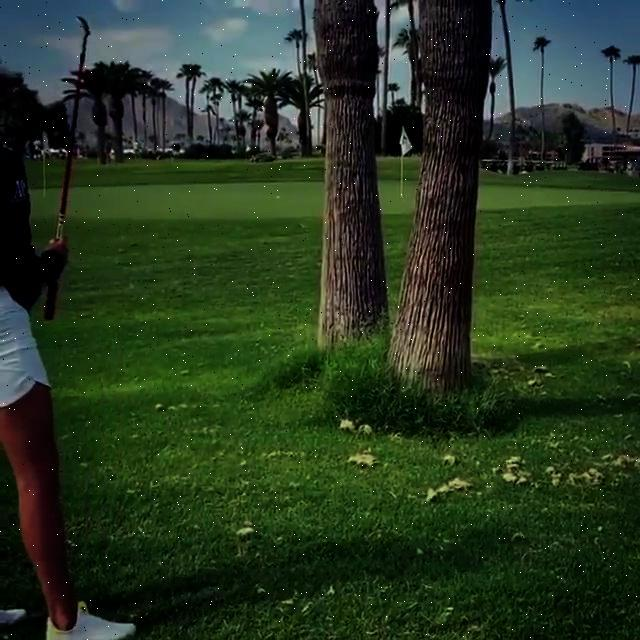ClubHandle: (36, 14, 91, 320)
ClubHead: (74, 17, 90, 37)
